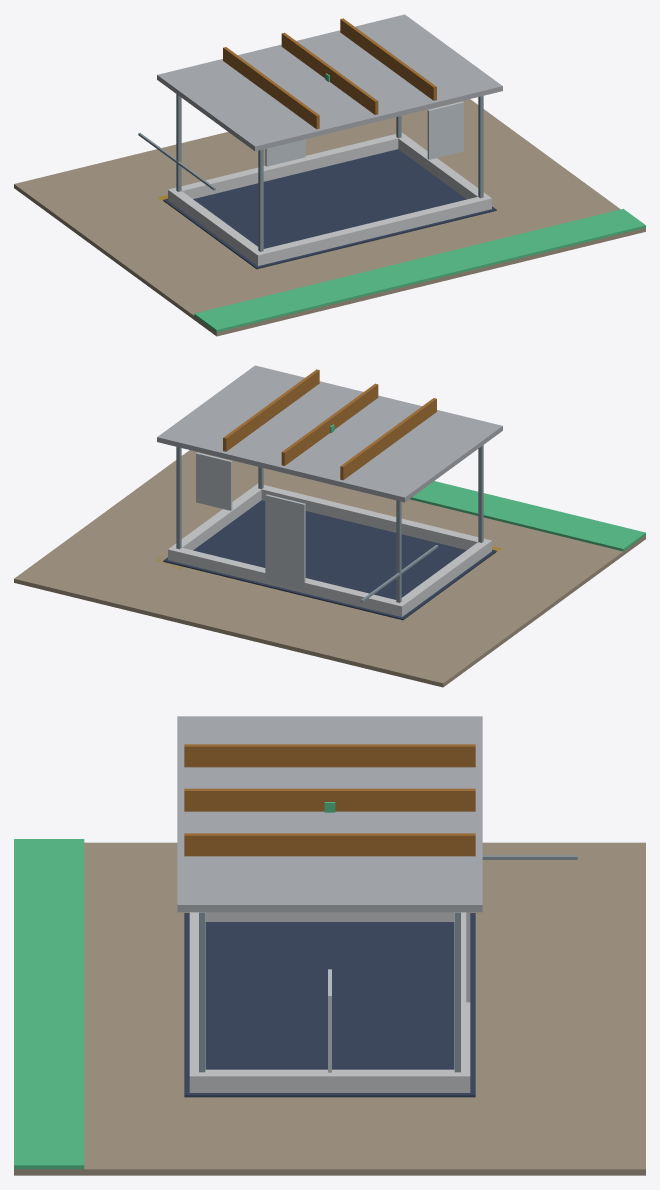
The model's file is construction_master.glb.
The picture shows the model from 3 angles, top to bottom: view 1: azimuth 30°, elevation 25°; view 2: azimuth 150°, elevation 25°; view 3: azimuth 270°, elevation 25°; orthographic projection. The views are drawn at different scales.
Parts seen in each view (by area): view 1: world; view 2: world; view 3: world.
Part boxes in pixels (left/top/right/bottom): world: left=14, top=14, right=645, bottom=336; world: left=14, top=365, right=645, bottom=687; world: left=14, top=716, right=645, bottom=1175.
Size of the model in its own units: 11 by 4.2 by 9.
